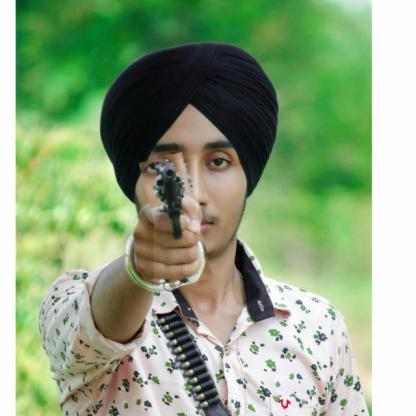handgun: (146, 154, 206, 287)
